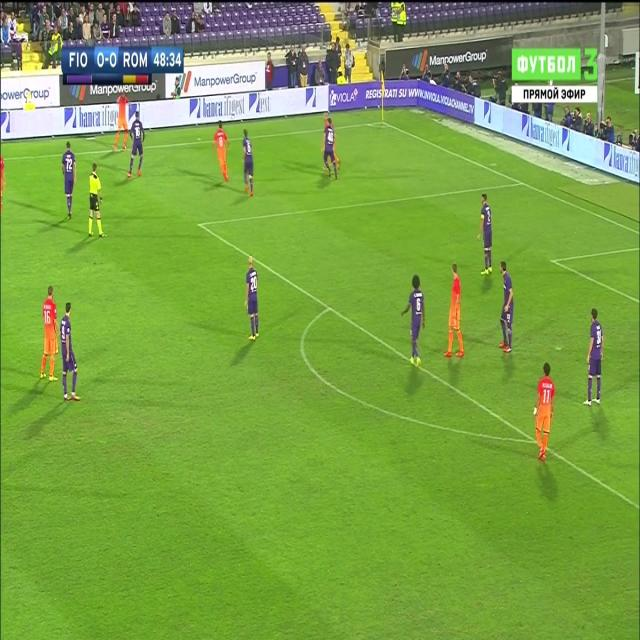Player: (399, 270, 428, 372), (582, 305, 606, 411), (532, 358, 556, 462), (443, 259, 467, 361), (40, 283, 61, 384), (60, 300, 79, 406), (498, 260, 514, 356), (243, 253, 260, 343), (478, 192, 494, 278), (126, 114, 146, 182), (111, 90, 130, 156), (62, 142, 77, 222), (212, 120, 230, 183), (240, 128, 256, 198), (323, 116, 339, 184)
Referee: (86, 157, 108, 242)
